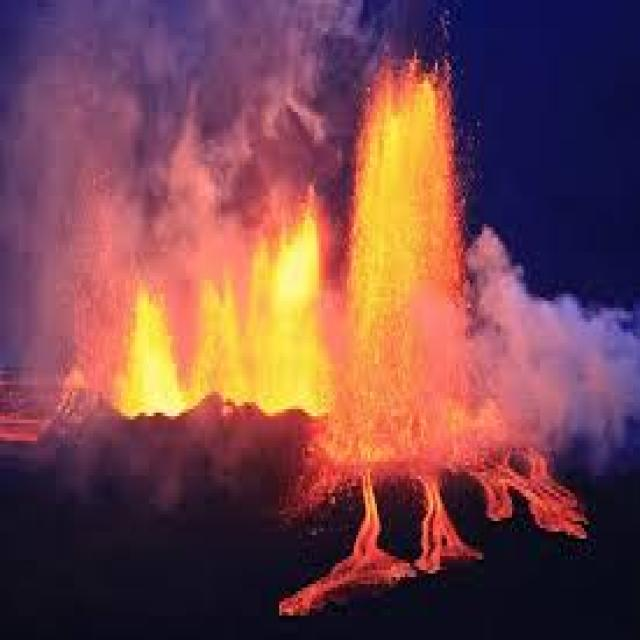explosion: (73, 0, 605, 537)
